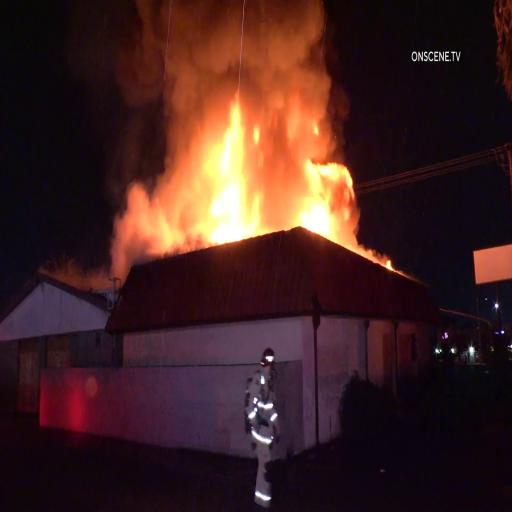fire: (199, 93, 248, 243), (299, 148, 349, 231)
smoke: (106, 0, 191, 246), (161, 4, 315, 90)
